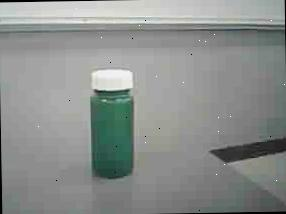Bottle C: (78, 64, 152, 186)
